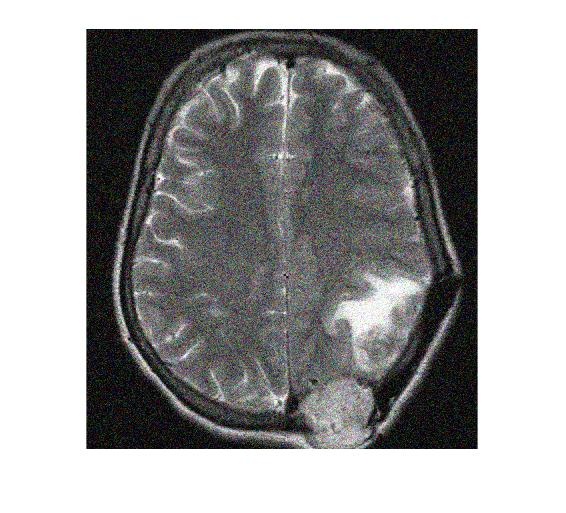Brain_Cancer: (287, 365, 383, 449)
